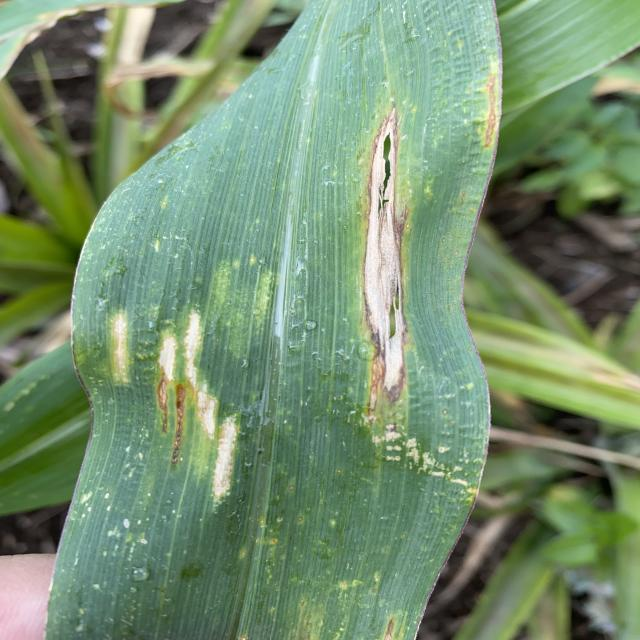Corn_Leaf_Blight: (66, 0, 490, 640)
